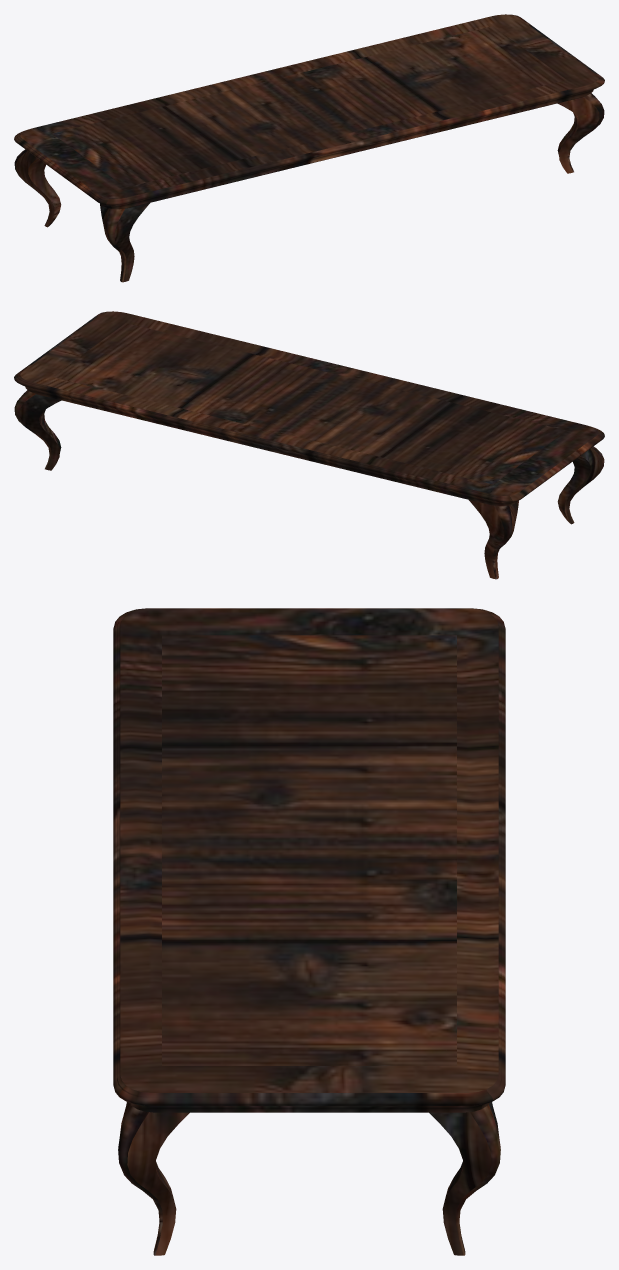
The model's file is mesita.obj.
The picture shows the model from 3 angles, top to bottom: view 1: azimuth 30°, elevation 25°; view 2: azimuth 150°, elevation 25°; view 3: azimuth 270°, elevation 25°; orthographic projection. The views are drawn at different scales.
Visible parts, largest first — view 1: Vintage_Furniture_Coffee_Table_OBJ:Vintage_Furniture_Coffee_Tabl; view 2: Vintage_Furniture_Coffee_Table_OBJ:Vintage_Furniture_Coffee_Tabl; view 3: Vintage_Furniture_Coffee_Table_OBJ:Vintage_Furniture_Coffee_Tabl.
Part boxes in pixels (x1,y1,x2,y2): Vintage_Furniture_Coffee_Table_OBJ:Vintage_Furniture_Coffee_Tabl: (14, 14, 604, 282); Vintage_Furniture_Coffee_Table_OBJ:Vintage_Furniture_Coffee_Tabl: (14, 311, 604, 579); Vintage_Furniture_Coffee_Table_OBJ:Vintage_Furniture_Coffee_Tabl: (113, 608, 505, 1255).
Size of the model in its own units: 2.07 by 0.3596 by 0.6943.
1 material, 1 textured.
